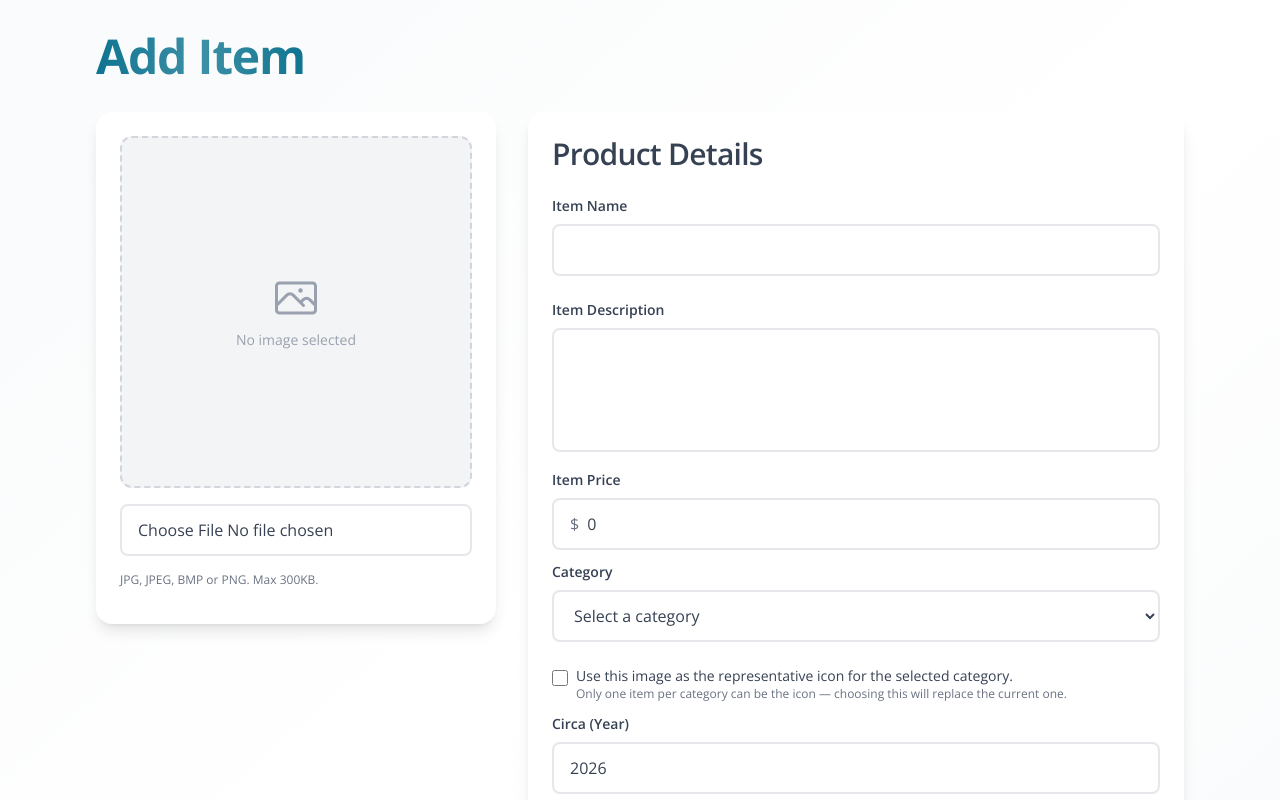
CreateItemPage.vue › price rounding › rounds the price to two decimals on blur
The image size is (1280, 800).
Replace the text in the number field labelled "Item Price" with "10.1267" at (865, 524), box [587, 512, 1142, 536]
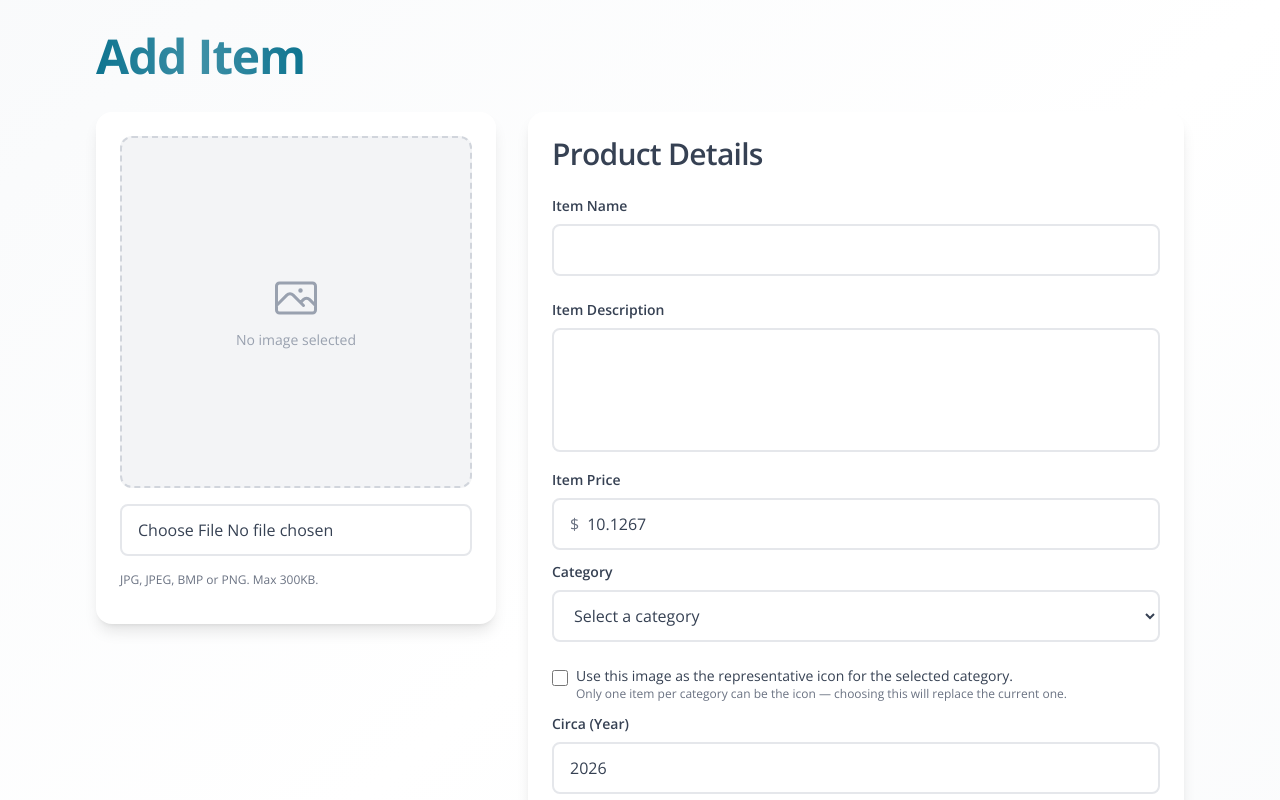
Leave the number field labelled "Item Price", box [587, 512, 1142, 536]
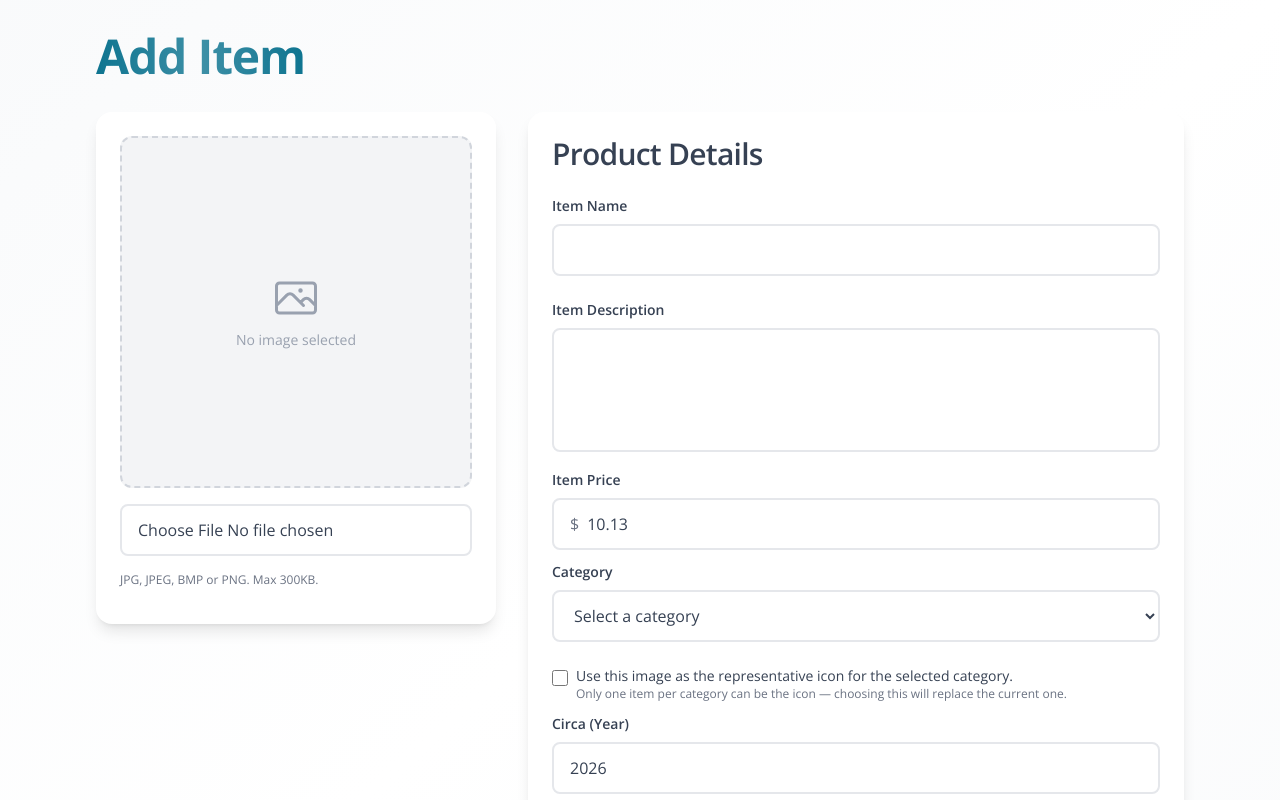
Expected: the number field labelled "Item Price" holds "10.13", [587, 512, 1142, 536]
